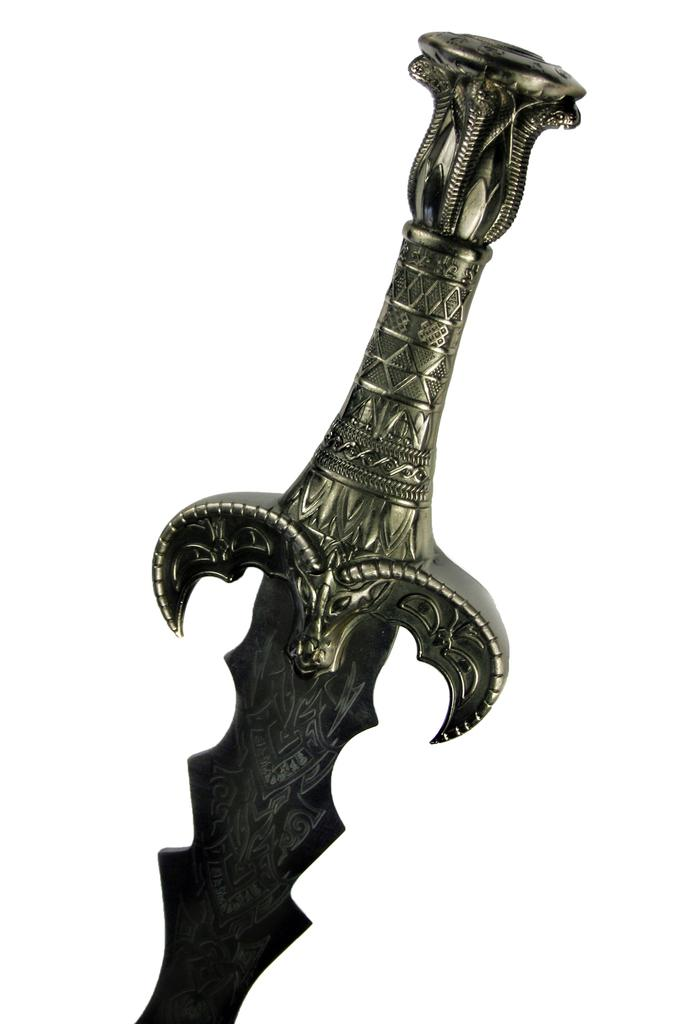Sword: (135, 33, 587, 1023)
